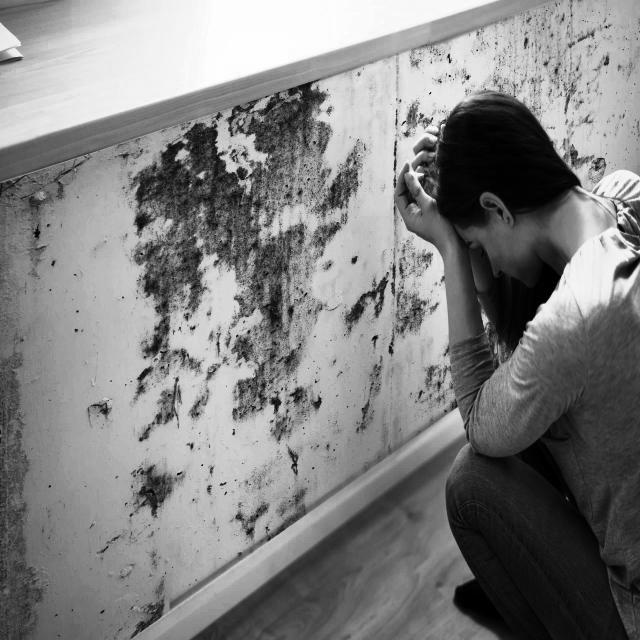stain marks: (0, 82, 480, 640), (630, 148, 640, 174)
